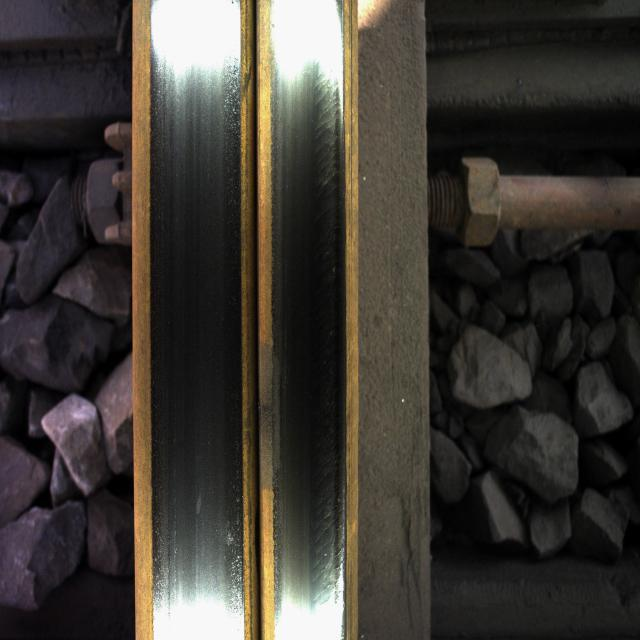break: (160, 83, 234, 575), (268, 55, 336, 566)
